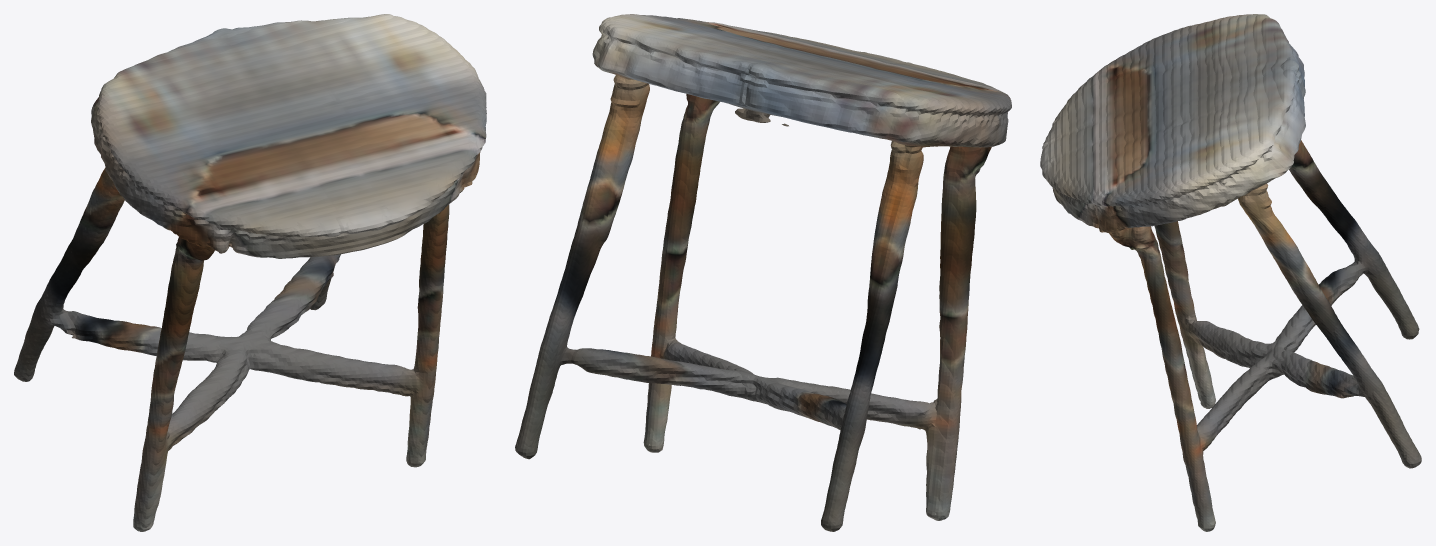
Rendered from table-005.glb.
3 views of the same model, side by side, from view 1: azimuth 30°, elevation 25°; view 2: azimuth 150°, elevation 25°; view 3: azimuth 270°, elevation 25° (orthographic). The views are drawn at different scales.
Visible parts, largest first — view 1: geometry_0; view 2: geometry_0; view 3: geometry_0.
Part boxes in pixels (left/top/right/bottom): geometry_0: left=14, top=14, right=486, bottom=531; geometry_0: left=515, top=14, right=1011, bottom=531; geometry_0: left=1040, top=14, right=1421, bottom=531.
Bounding box in the file's own units: 50 × 58 × 50.
